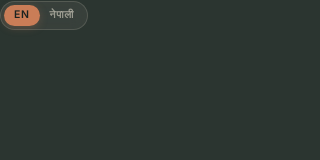
Scenario: LanguageToggle Component › should switch active state to नेपाली when clicked
Click the button "नेपाली". click: (62, 15)
box: [40,5,84,26]
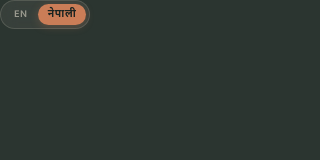
Now the button "नेपाली" has class "is-active", box [38,4,86,25]
Now the button "नेपाली" is pressed, box [38,4,86,25]
Now the button "EN" does not have class "is-active", box [4,4,38,25]
